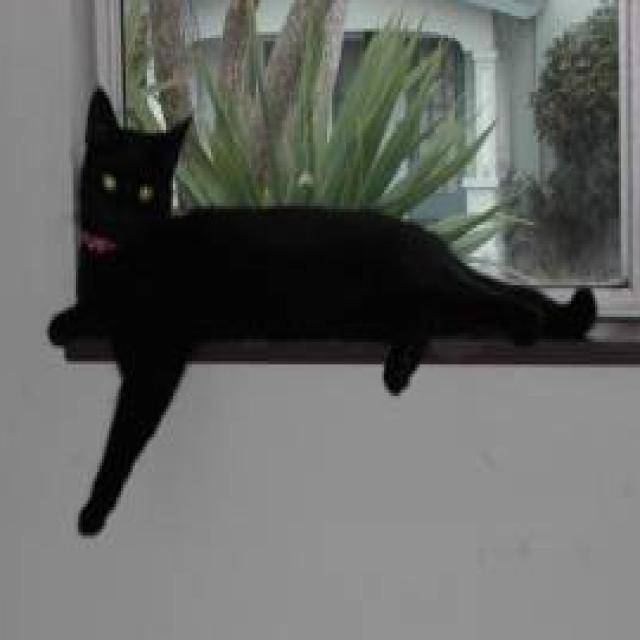Bombay: (46, 80, 602, 544)
